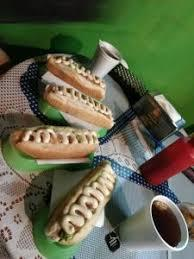Completos: (48, 163, 116, 241), (10, 126, 99, 166), (44, 86, 114, 135)
